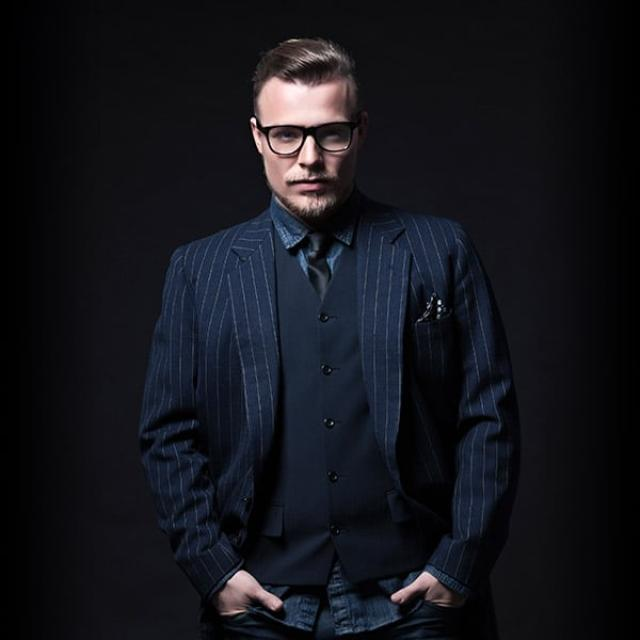mobile_phonerotation: (137, 35, 522, 639)
